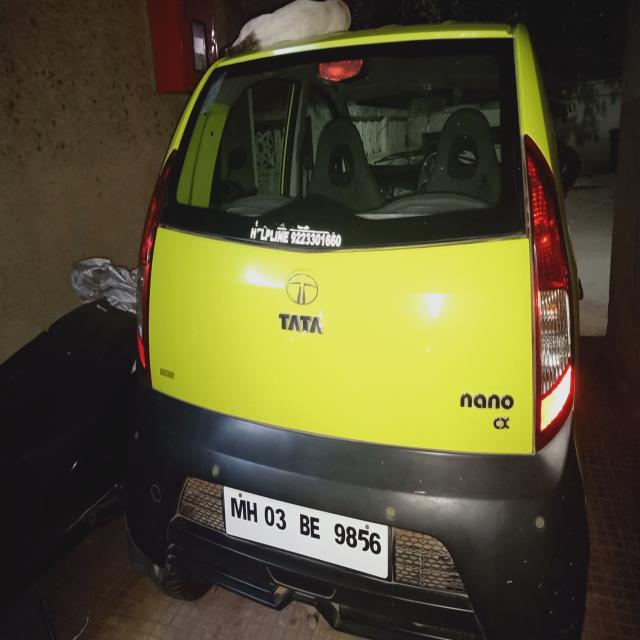Number-Plate: (222, 489, 390, 577)
